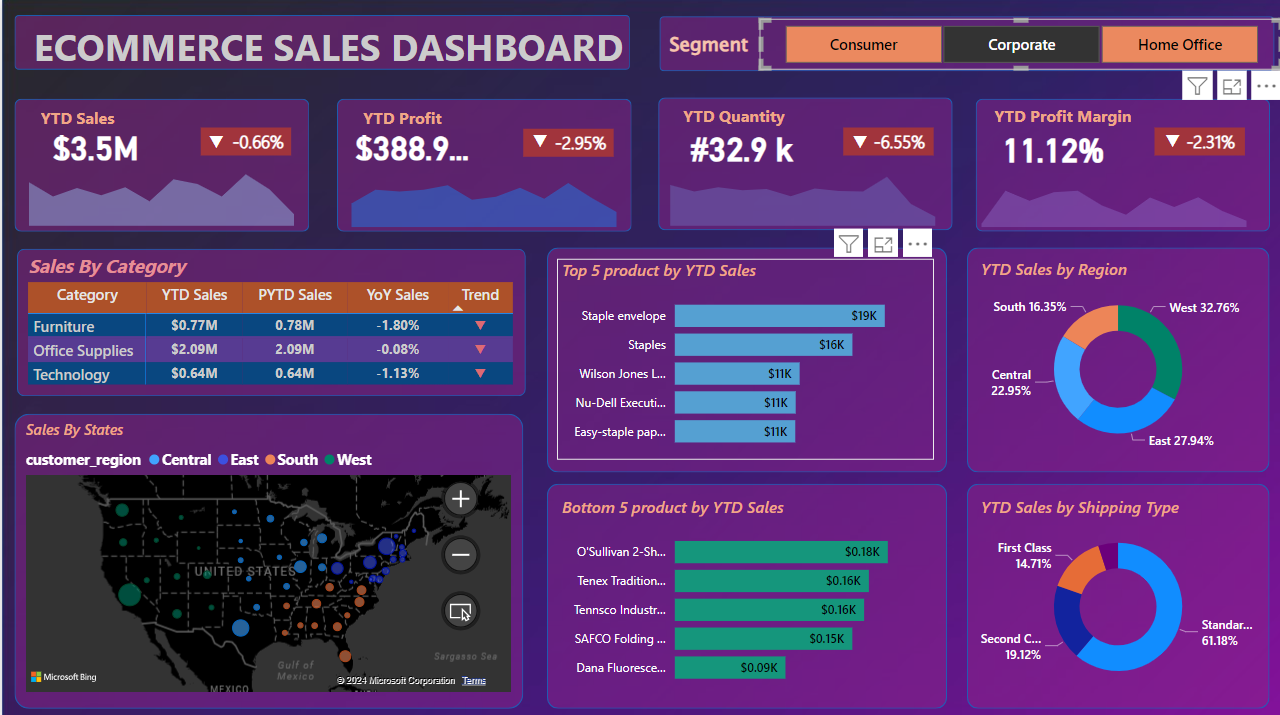

This screenshot's page, from the dashboard's own definition file:
{"tool":"powerbi","page":{"name":"Page 1","canvas":[1280,720],"ordinal":0},"visuals":[{"type":"shape","box":[12.3,15.1,615.6,54.8],"z":0},{"type":"textbox","box":[12.1,15.7,628.3,69.9],"z":1000},{"type":"shape","box":[12.3,98.7,294.8,133],"z":2000},{"type":"card","fields":{"Values":["ecommerce_data.YTD Sales"]},"box":[25.3,126.6,137.5,39.8],"z":3000},{"type":"areaChart","fields":{"Category":["Calendar.Month"],"Y":["Sum(ecommerce_data.sales_per_order)"]},"box":[12.1,155.6,294.3,76],"z":4000},{"type":"shape","box":[199,127.8,90.5,27.7],"z":5000},{"type":"card","fields":{"Values":["ecommerce_data.Sales Icon"]},"box":[190.6,127.8,49.4,32.6],"z":6000},{"type":"card","fields":{"Values":["ecommerce_data.YoY Sales"]},"box":[221.9,129,67.5,26.5],"z":7000},{"type":"textbox","box":[33.8,101.3,94.1,41],"z":8000},{"type":"shape","box":[334.9,99.1,294.8,133],"z":9000},{"type":"card","fields":{"Values":["ecommerce_data.YTD Profit"]},"box":[341.3,126.6,137.5,39.8],"z":10000},{"type":"areaChart","fields":{"Category":["Calendar.Month"],"Y":["Sum(ecommerce_data.profit_per_order)"]},"box":[334.7,155.9,294.3,76],"z":11000},{"type":"shape","box":[521.6,128.2,90.5,27.7],"z":12000},{"type":"card","fields":{"Values":["ecommerce_data.Profit Icon"]},"box":[513.8,126.6,49.4,32.6],"z":13000},{"type":"card","fields":{"Values":["ecommerce_data.YoY Profit"]},"box":[544.5,129.4,67.5,26.5],"z":14000},{"type":"textbox","box":[356.2,101.2,111.2,41.2],"z":15000},{"type":"shape","box":[656.1,97.7,294.3,132.7],"z":16000},{"type":"card","fields":{"Values":["ecommerce_data.YTD Concatenated Qty"]},"box":[671.8,127.8,137.5,39.8],"z":17000},{"type":"areaChart","fields":{"Category":["Calendar.Month"],"Y":["Sum(ecommerce_data.order_quantity)"]},"box":[654.4,155.3,294.3,76],"z":18000},{"type":"shape","box":[841.3,127.6,90.5,27.7],"z":19000},{"type":"card","fields":{"Values":["ecommerce_data.Qty Icon"]},"box":[833.4,127.8,49.4,32.6],"z":20000},{"type":"card","fields":{"Values":["ecommerce_data.YoY Qty"]},"box":[864.2,128.8,67.5,26.5],"z":21000},{"type":"textbox","box":[676.6,100.1,126.6,41],"z":22000},{"type":"shape","box":[973.1,99.2,294.3,132.7],"z":23000},{"type":"card","fields":{"Values":["ecommerce_data.YTD Profit Margin"]},"box":[982.8,128.2,137.5,39.8],"z":24000},{"type":"areaChart","fields":{"Category":["Calendar.Month"],"Y":["ecommerce_data.Profit Margin"]},"box":[965.4,155.7,294.3,76],"z":25000},{"type":"shape","box":[1152.3,127.9,90.5,27.7],"z":26000},{"type":"card","fields":{"Values":["ecommerce_data.Profit Margin Icon"]},"box":[1145.7,126.6,49.4,32.6],"z":27000},{"type":"card","fields":{"Values":["ecommerce_data.YoY Profit Margin"]},"box":[1175.2,129.1,67.5,26.5],"z":28000},{"type":"textbox","box":[987.7,100.1,164,41],"z":29000},{"type":"shape","box":[15,248.5,508.8,147.5],"z":30000},{"type":"pivotTable","title":"Sales By Category","fields":{"Rows":["ecommerce_data.category_name"],"Values":["ecommerce_data.YTD Sales","ecommerce_data.PYTD Sales","ecommerce_data.YoY Sales","ecommerce_data.Sales Icon"]},"box":[21.3,252.2,495,143.8],"z":31000},{"type":"shape","box":[12.5,413.8,508.8,295],"z":32000},{"type":"map","title":"Sales By States","fields":{"Y":["us_state_long_lat_codes.latitude"],"X":["us_state_long_lat_codes.longitude"],"Size":["ecommerce_data.YTD Sales"],"Series":["ecommerce_data.customer_region"]},"box":[18.8,418.8,495,277.5],"z":33000},{"type":"shape","box":[545,247.5,400,225],"z":34000},{"type":"shape","box":[545,483.8,400,225],"z":35000},{"type":"barChart","title":"Top 5 product by YTD  Sales","fields":{"Category":["ecommerce_data.product_name"],"Y":["ecommerce_data.YTD Sales"]},"box":[555,258.8,376.2,201.2],"z":36000},{"type":"barChart","title":"Bottom 5 product by YTD  Sales","fields":{"Category":["ecommerce_data.product_name"],"Y":["ecommerce_data.YTD Sales"]},"box":[555,495,376.2,201.2],"z":37000},{"type":"shape","box":[965,247.5,302.5,225],"z":38000},{"type":"shape","box":[965,483.8,302.5,225],"z":39000},{"type":"donutChart","title":"YTD Sales by Region","fields":{"Category":["ecommerce_data.customer_region"],"Y":["ecommerce_data.YTD Sales"]},"box":[973.8,257.5,285,202.5],"z":40000},{"type":"donutChart","title":"YTD Sales by Shipping Type","fields":{"Y":["ecommerce_data.YTD Sales"],"Category":["ecommerce_data.shipping_type"]},"box":[973.8,495,285,202.5],"z":41000},{"type":"shape","box":[657.5,16.2,615,55],"z":42000},{"type":"slicer","fields":{"Values":["ecommerce_data.customer_segment"]},"box":[757.5,18.8,522.5,51.2],"z":43000},{"type":"textbox","box":[662.5,25,100,41.2],"z":44000}]}

Visuals, with their boxes in screenshot pixels (x1, y1, x2, y2), scaled from the page's 1280x720 canvas onto the 1280x715 screenshot:
shape: bbox=[12, 15, 628, 69]
textbox: bbox=[12, 16, 640, 85]
shape: bbox=[12, 98, 307, 230]
card - ecommerce_data.YTD Sales: bbox=[25, 126, 163, 165]
areaChart - Calendar.Month x Sum(ecommerce_data.sales_per_order): bbox=[12, 155, 306, 230]
shape: bbox=[199, 127, 290, 154]
card - ecommerce_data.Sales Icon: bbox=[191, 127, 240, 159]
card - ecommerce_data.YoY Sales: bbox=[222, 128, 289, 154]
textbox: bbox=[34, 101, 128, 141]
shape: bbox=[335, 98, 630, 230]
card - ecommerce_data.YTD Profit: bbox=[341, 126, 479, 165]
areaChart - Calendar.Month x Sum(ecommerce_data.profit_per_order): bbox=[335, 155, 629, 230]
shape: bbox=[522, 127, 612, 155]
card - ecommerce_data.Profit Icon: bbox=[514, 126, 563, 158]
card - ecommerce_data.YoY Profit: bbox=[544, 129, 612, 155]
textbox: bbox=[356, 100, 467, 141]
shape: bbox=[656, 97, 950, 229]
card - ecommerce_data.YTD Concatenated Qty: bbox=[672, 127, 809, 166]
areaChart - Calendar.Month x Sum(ecommerce_data.order_quantity): bbox=[654, 154, 949, 230]
shape: bbox=[841, 127, 932, 154]
card - ecommerce_data.Qty Icon: bbox=[833, 127, 883, 159]
card - ecommerce_data.YoY Qty: bbox=[864, 128, 932, 154]
textbox: bbox=[677, 99, 803, 140]
shape: bbox=[973, 99, 1267, 230]
card - ecommerce_data.YTD Profit Margin: bbox=[983, 127, 1120, 167]
areaChart - Calendar.Month x ecommerce_data.Profit Margin: bbox=[965, 155, 1260, 230]
shape: bbox=[1152, 127, 1243, 155]
card - ecommerce_data.Profit Margin Icon: bbox=[1146, 126, 1195, 158]
card - ecommerce_data.YoY Profit Margin: bbox=[1175, 128, 1243, 155]
textbox: bbox=[988, 99, 1152, 140]
shape: bbox=[15, 247, 524, 393]
"Sales By Category" pivotTable: bbox=[21, 250, 516, 393]
shape: bbox=[12, 411, 521, 704]
"Sales By States" map: bbox=[19, 416, 514, 691]
shape: bbox=[545, 246, 945, 469]
shape: bbox=[545, 480, 945, 704]
"Top 5 product by YTD  Sales" barChart: bbox=[555, 257, 931, 457]
"Bottom 5 product by YTD  Sales" barChart: bbox=[555, 492, 931, 691]
shape: bbox=[965, 246, 1268, 469]
shape: bbox=[965, 480, 1268, 704]
"YTD Sales by Region" donutChart: bbox=[974, 256, 1259, 457]
"YTD Sales by Shipping Type" donutChart: bbox=[974, 492, 1259, 693]
shape: bbox=[658, 16, 1272, 71]
slicer - ecommerce_data.customer_segment: bbox=[758, 19, 1279, 70]
textbox: bbox=[662, 25, 762, 66]
